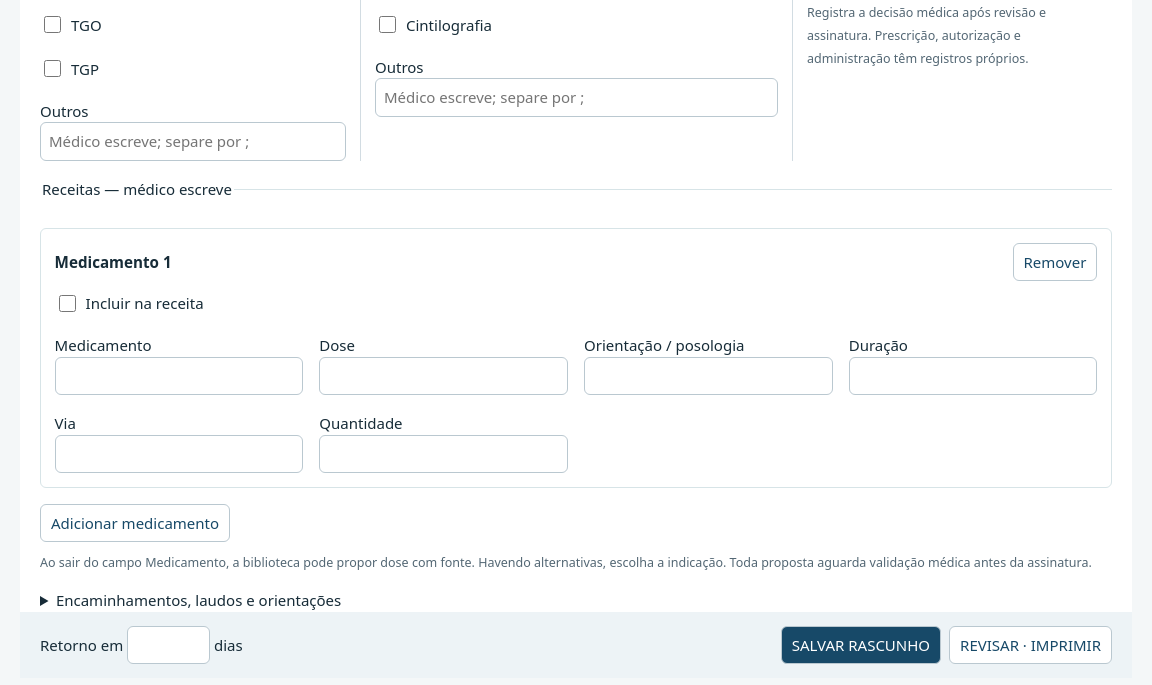
dose pendente selecionada permite salvar, mas não preparar assinatura
(page scrolled)
Type "Medicamento sintético" into the field named "Medicamento da receita" at (179, 376), box [55,357,303,395]
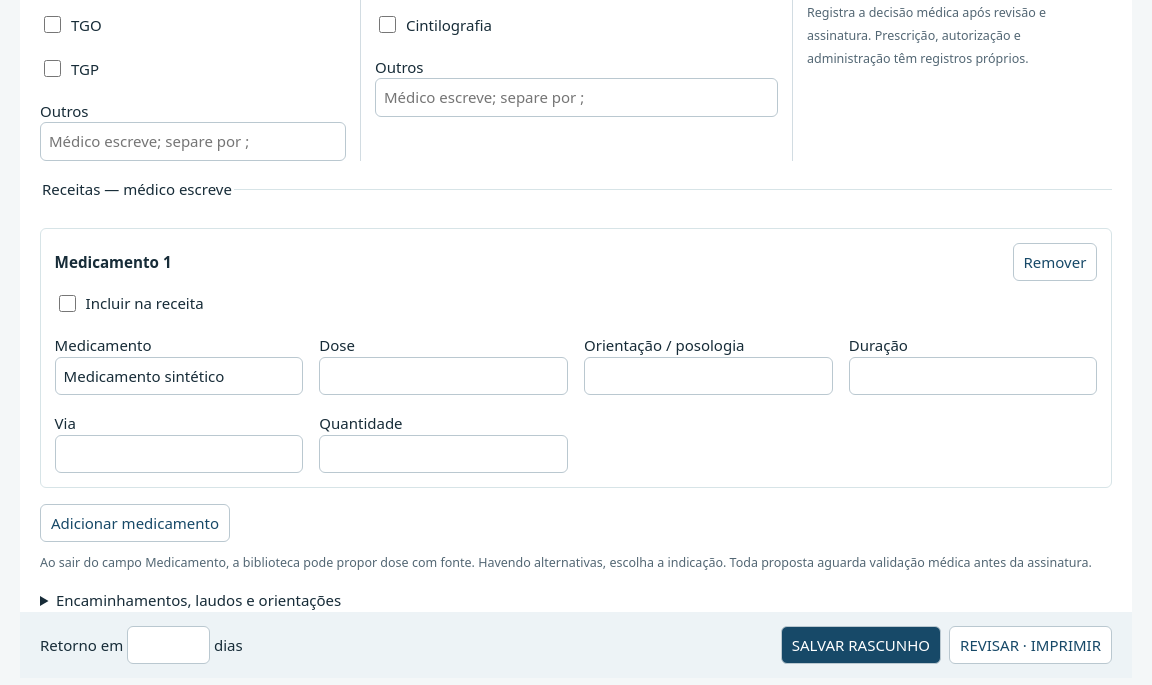
Click the checkbox named "Incluir receita digitada" at (67, 303), box [59,295,76,312]
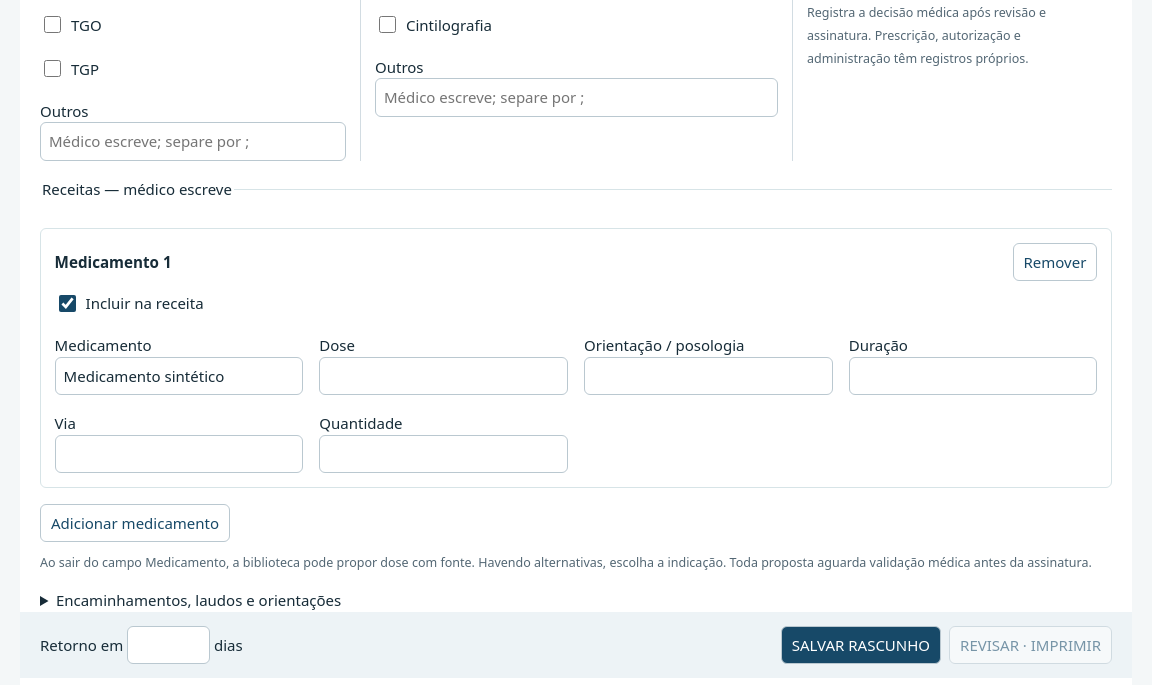
Expected: the button "SALVAR RASCUNHO" is enabled, [781,626,941,664]
Expected: the button "REVISAR · IMPRIMIR" is disabled, [949,626,1112,664]
